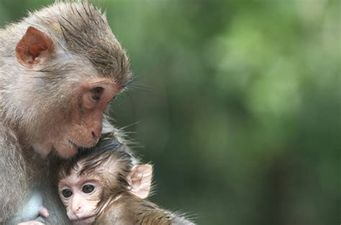monkey: (1, 3, 119, 192), (48, 116, 213, 222)
